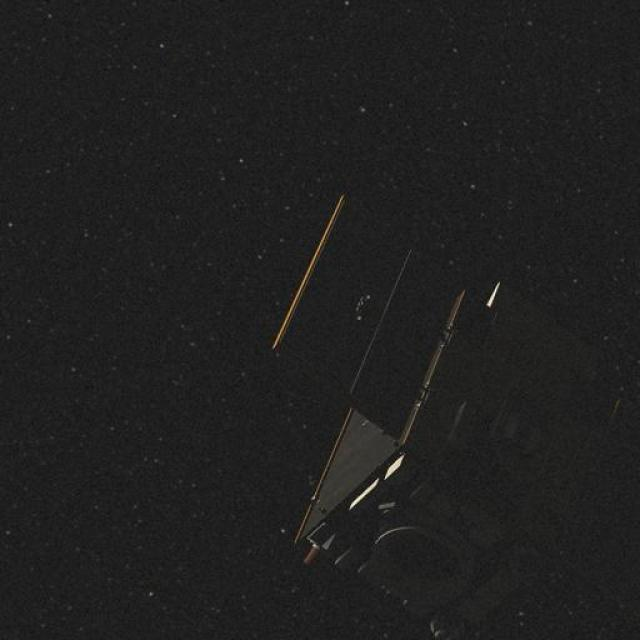proba_2: (278, 201, 540, 602)
